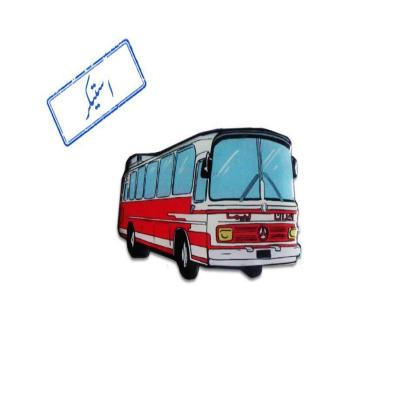Bus: (114, 122, 304, 284)
